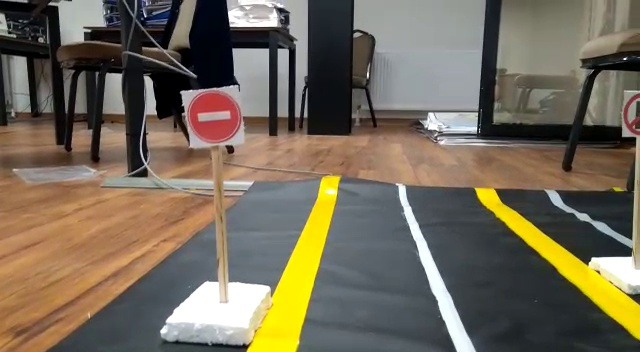girisi_olmayan_yol: (181, 89, 244, 140)
